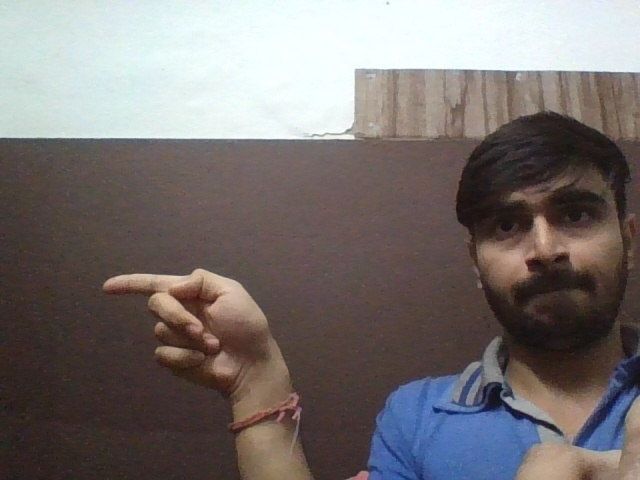G: (92, 267, 278, 403)
